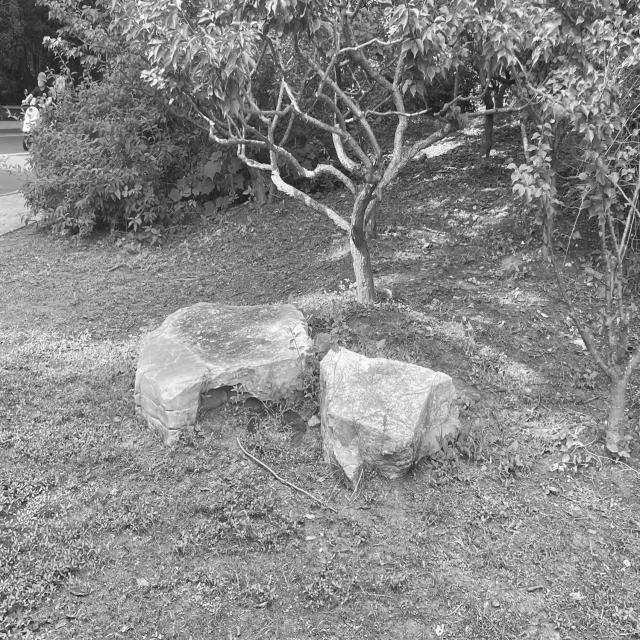Stone: (135, 302, 311, 443), (320, 348, 460, 486)
Tree: (130, 0, 505, 304), (531, 0, 640, 446)
